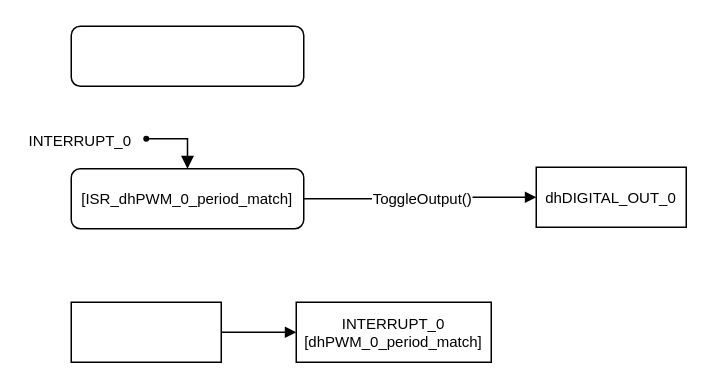
This 713x389 diagram has some shape labels left out. Here are the shapes that lost their labels. From the top down, the centre of each, then its label:
the point at 187,55: main( )
the point at 145,331: dhPWM_0
